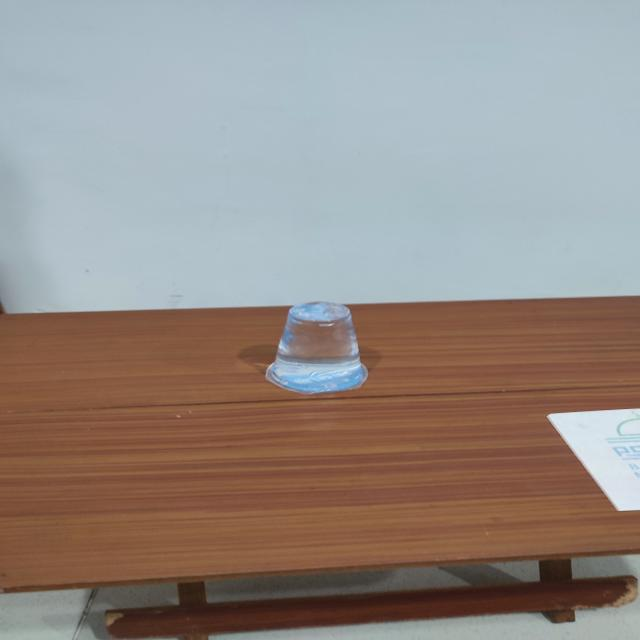air gelas: (260, 298, 377, 397)
